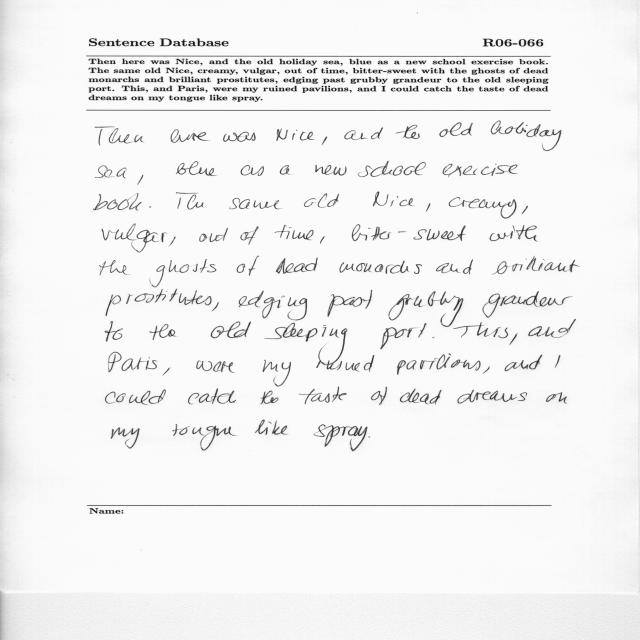word: (106, 289, 212, 316), (482, 291, 576, 321), (389, 291, 464, 327), (491, 121, 561, 151), (239, 291, 307, 320), (352, 224, 466, 241), (264, 323, 347, 346), (150, 259, 217, 287), (397, 353, 481, 375), (102, 224, 167, 252), (173, 424, 237, 451), (491, 256, 580, 275), (317, 346, 375, 372), (449, 197, 517, 219), (314, 424, 367, 451), (380, 323, 427, 349), (328, 290, 372, 317), (358, 161, 426, 177), (339, 261, 422, 274), (109, 352, 158, 372), (457, 390, 527, 404), (443, 164, 518, 177), (106, 389, 166, 405), (95, 127, 144, 146), (453, 322, 508, 338), (489, 225, 538, 242), (94, 193, 142, 210), (299, 387, 347, 404), (528, 321, 575, 338), (188, 389, 236, 405), (263, 360, 291, 386), (275, 258, 318, 274), (211, 322, 251, 339), (400, 389, 441, 405), (373, 192, 415, 207), (111, 428, 140, 449), (176, 161, 216, 176), (505, 355, 542, 371), (275, 225, 314, 240), (229, 198, 281, 209), (436, 260, 473, 275), (171, 129, 209, 143), (304, 193, 339, 208), (439, 122, 473, 137), (276, 128, 315, 141), (196, 360, 235, 373), (176, 192, 204, 210), (255, 420, 288, 435), (345, 128, 383, 141), (237, 256, 260, 276), (100, 260, 129, 275), (150, 324, 177, 340), (95, 165, 127, 178), (199, 228, 228, 242), (105, 321, 123, 342), (396, 125, 421, 139), (241, 226, 259, 245), (316, 165, 347, 176), (223, 132, 256, 142), (371, 387, 387, 405), (241, 165, 264, 176), (546, 392, 567, 404), (260, 391, 278, 404), (280, 165, 290, 175), (510, 333, 517, 345), (555, 355, 560, 368), (521, 206, 528, 215), (169, 237, 176, 246), (212, 302, 219, 311), (138, 175, 144, 185), (483, 366, 490, 374), (163, 368, 170, 375), (322, 136, 327, 145), (320, 236, 325, 244), (426, 203, 430, 212), (149, 207, 151, 208), (433, 337, 435, 338), (368, 437, 370, 438)
